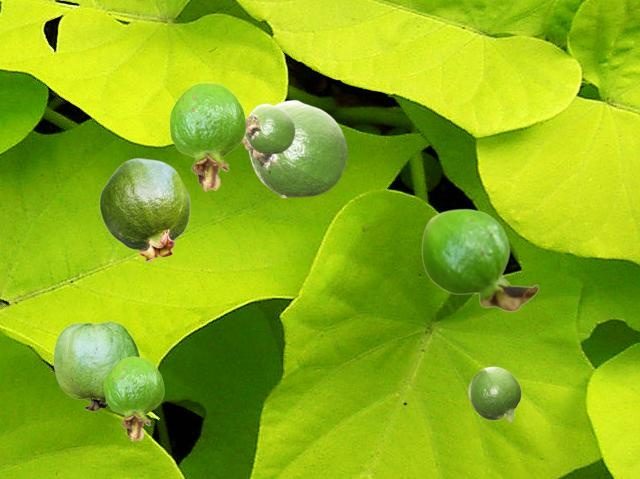guava: (421, 208, 538, 311), (242, 99, 347, 197), (99, 158, 189, 261), (169, 82, 245, 190), (53, 321, 139, 410), (104, 356, 163, 440), (468, 366, 520, 421), (245, 103, 294, 153)
